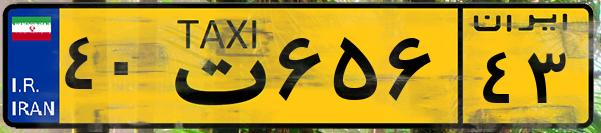0: (110, 28, 158, 98)
3: (525, 38, 570, 115)
4: (57, 26, 110, 100), (475, 38, 525, 113)
5: (330, 28, 385, 110)
6: (270, 28, 330, 110), (385, 28, 445, 110)
ت: (158, 12, 270, 120)
